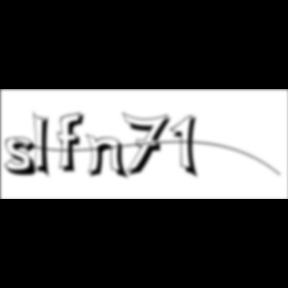1: (170, 114, 204, 182)
7: (123, 111, 178, 179)
I: (33, 110, 57, 182)
f: (57, 111, 90, 175)
n: (86, 132, 132, 181)
s: (4, 137, 44, 179)
